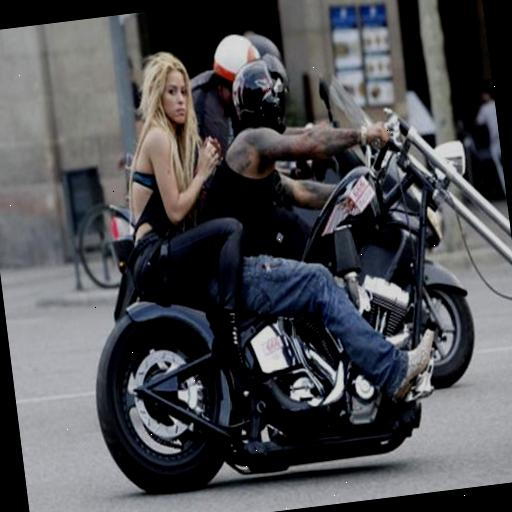helmet: (212, 35, 435, 484)
